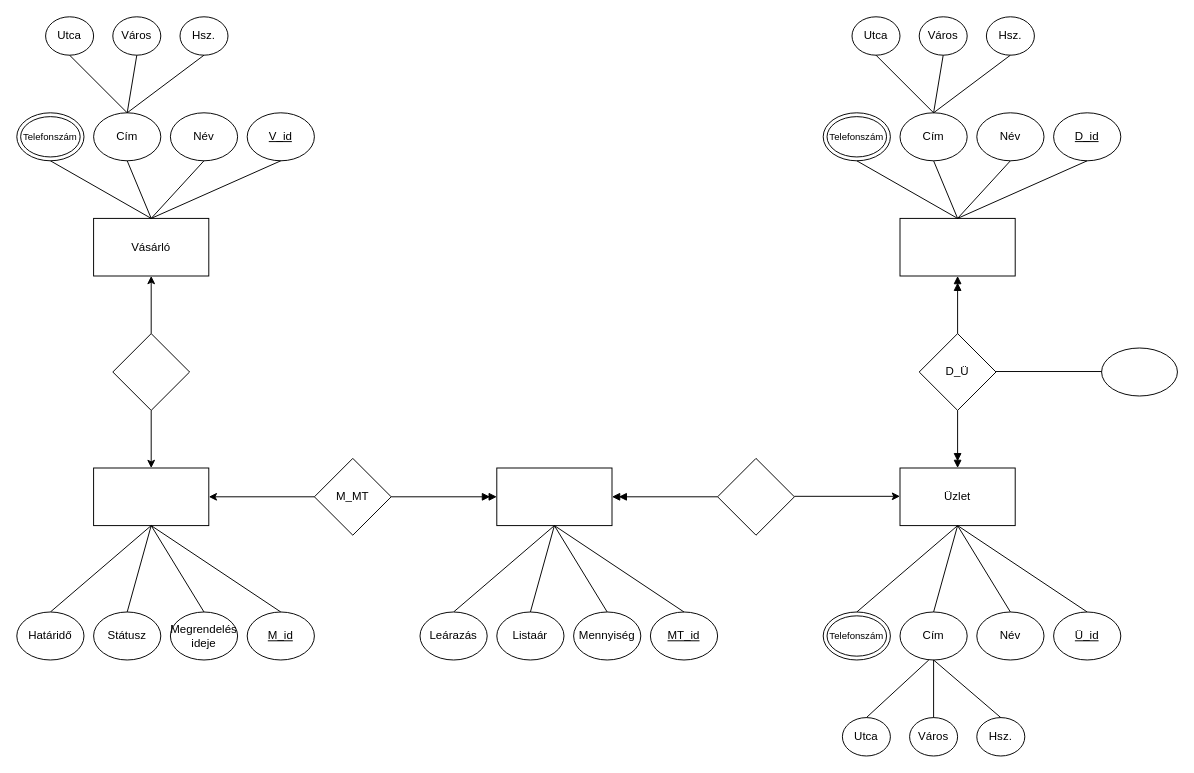
Some shapes in this 1194 by 773 pixel diagram are drawn without their labels. Here are the shapes that lost their labels. From the top down, the centre of each, then its label:
At point 957,246: "Dolgozók".
At point 151,371: "V_M".
At point 1139,371: "Fizetés".
At point 151,496: "Megrendelés".
At point 554,496: "Megrendelt termék".
At point 755,496: "MT_Ü".
